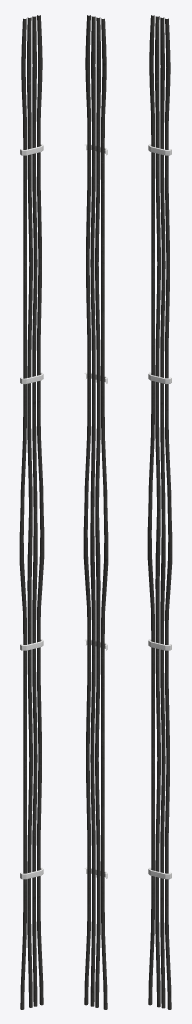
The model's file is SM_Tileable_Multiple_Cable.glb.
3 views of the same model, side by side, from view 1: azimuth 30°, elevation 25°; view 2: azimuth 150°, elevation 25°; view 3: azimuth 330°, elevation 25° (orthographic).
Visible parts, largest first — view 1: SM_Tileable_Multiple_Cable; view 2: SM_Tileable_Multiple_Cable; view 3: SM_Tileable_Multiple_Cable.
Boxes of the visible parts, left/top/right/bottom form: SM_Tileable_Multiple_Cable: left=19, top=15, right=44, bottom=1009; SM_Tileable_Multiple_Cable: left=83, top=15, right=108, bottom=1009; SM_Tileable_Multiple_Cable: left=147, top=15, right=172, bottom=1009.
Size of the model in its own units: 0.1337 by 5.2 by 0.0286.
2 materials, 2 textured.
